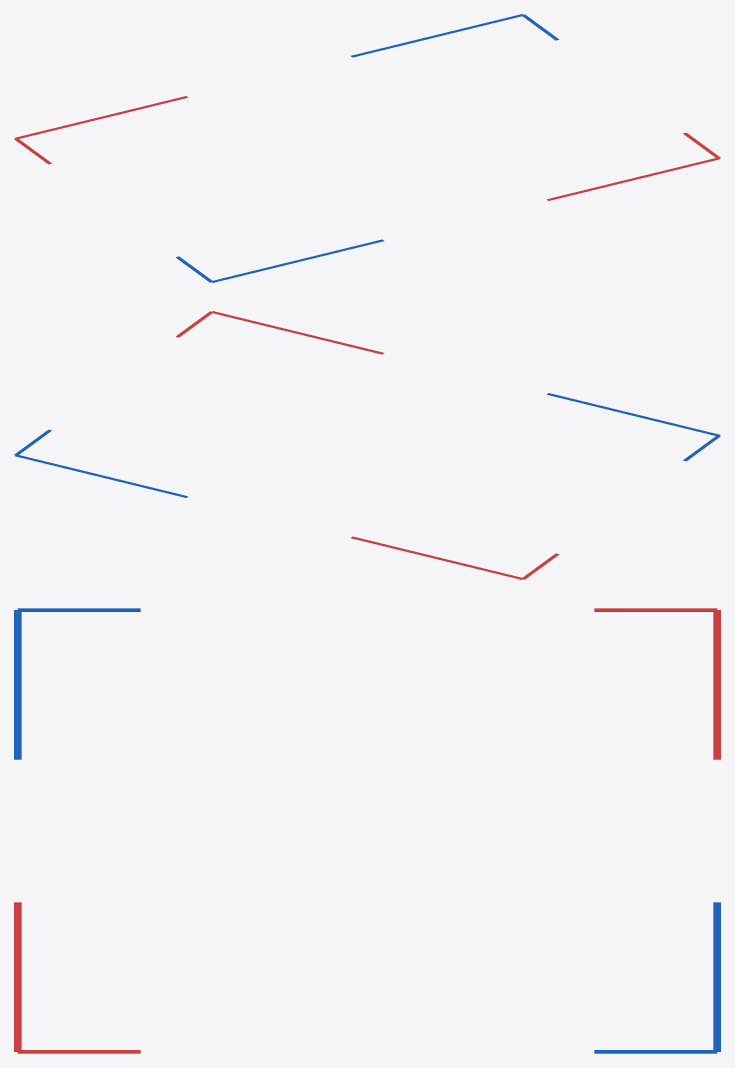
3 views of the same model, one above another, from view 1: azimuth 30°, elevation 25°; view 2: azimuth 150°, elevation 25°; view 3: azimuth 270°, elevation 25° (orthographic). The views are drawn at different scales.
Bounding box in the file's own units: 139 × 0.05 × 93.44.
2 materials, 2 textured.
